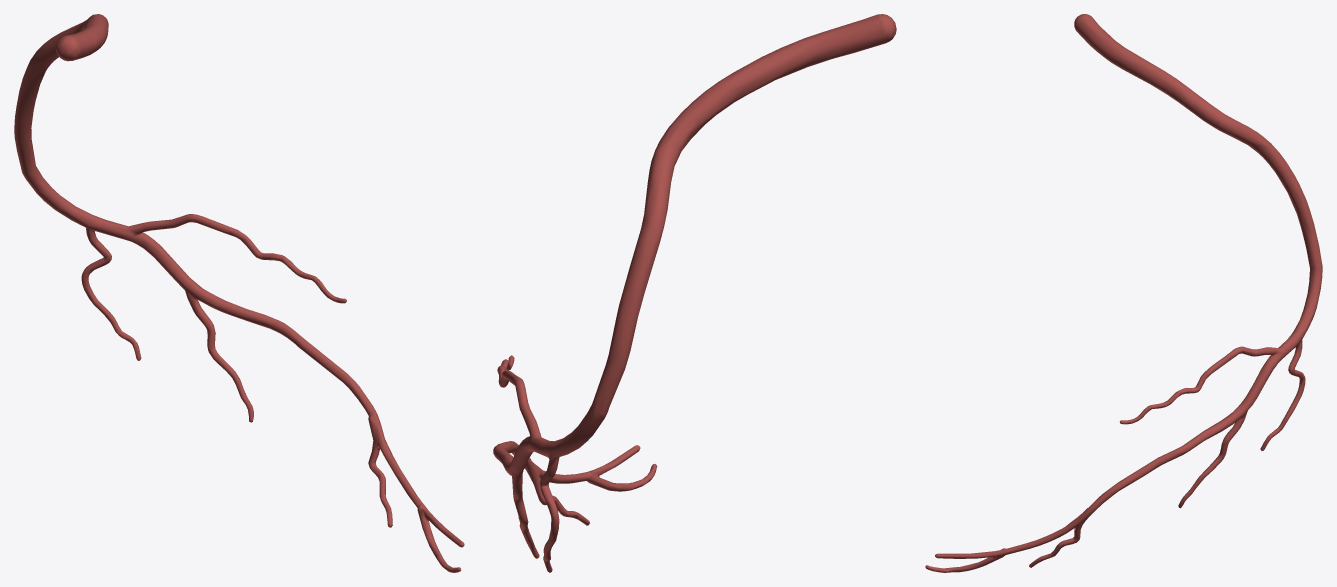
Rendered from FMA3895.glb.
The picture shows the model from 3 angles, left to right: view 1: azimuth 30°, elevation 25°; view 2: azimuth 150°, elevation 25°; view 3: azimuth 270°, elevation 25°; orthographic projection. The views are drawn at different scales.
Parts seen in each view (by area): view 1: FMA3895; view 2: FMA3895; view 3: FMA3895.
Part boxes in pixels (x1,y1,x2,y2): FMA3895: [14, 14, 464, 572]; FMA3895: [493, 14, 896, 572]; FMA3895: [925, 14, 1322, 572].
Size of the model in its own units: 0.0428 by 0.0685 by 0.0559.
